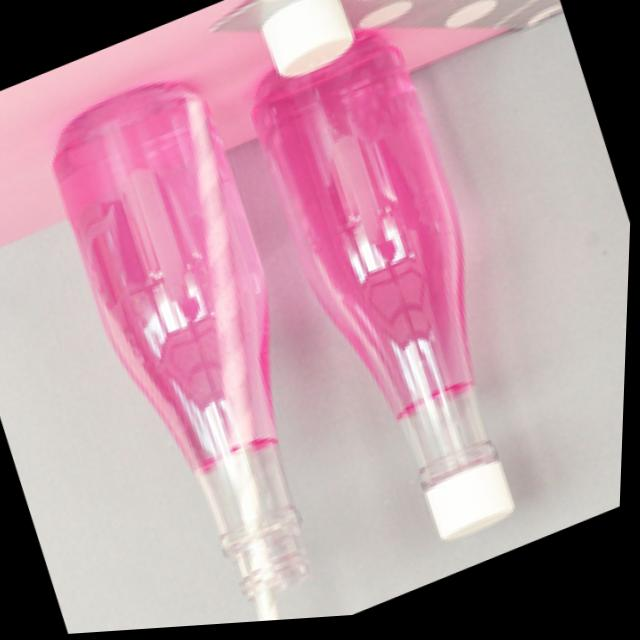glass_beverage_bottles: (20, 59, 372, 630), (226, 13, 540, 517)
